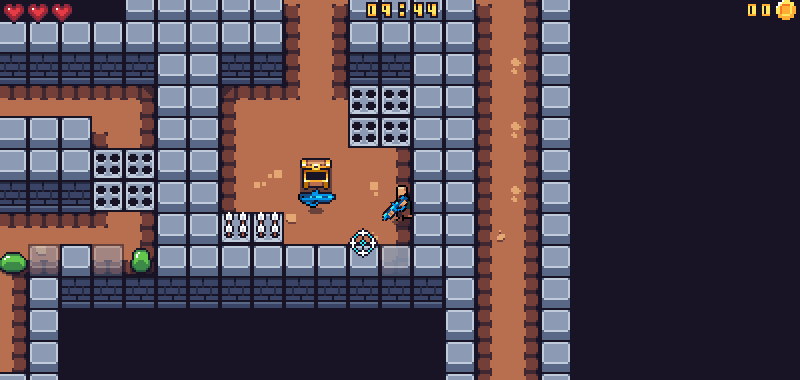enemy_slug: (128, 244, 153, 280), (0, 249, 28, 275)
trap_off: (92, 148, 156, 210), (348, 84, 412, 146)
trap_on: (218, 210, 285, 245)
treasury_open: (298, 152, 334, 191)
